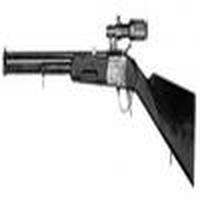gun: (4, 16, 195, 183)
